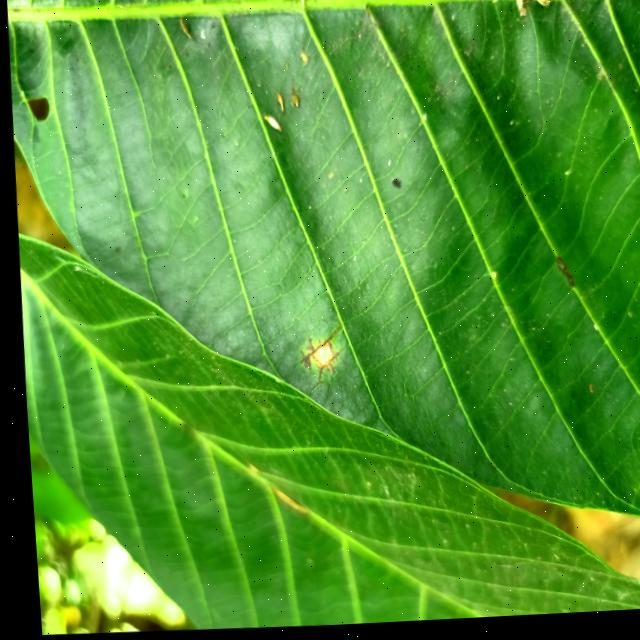Corynespora: (291, 327, 339, 386)
Leaf-Blight: (306, 346, 327, 369)
